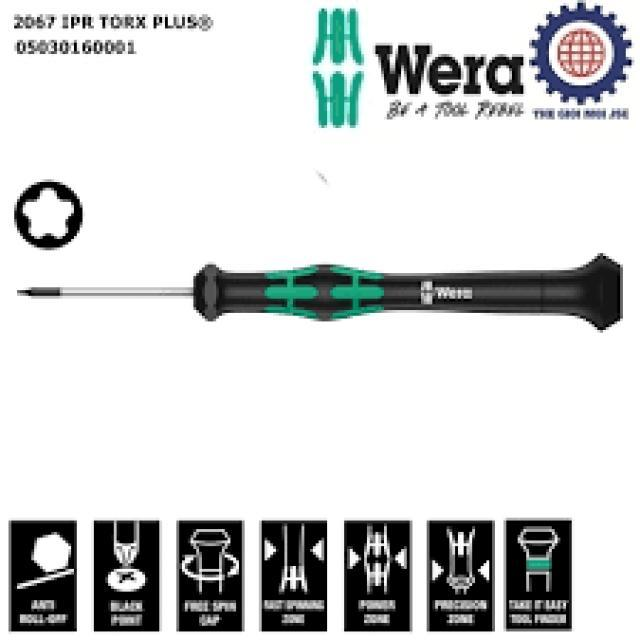screwdriver: (11, 248, 626, 334)
